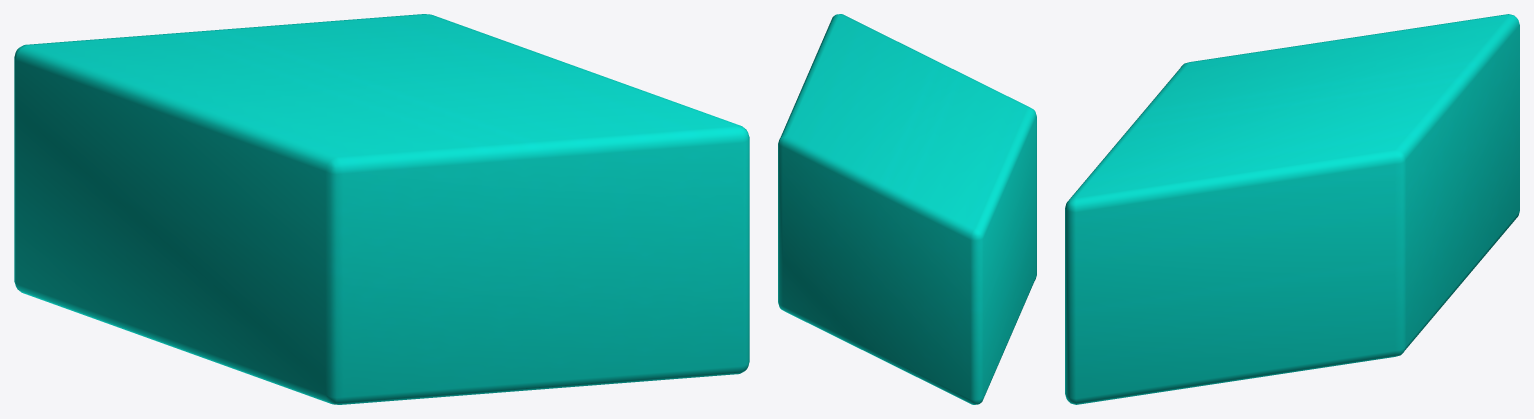
The model's file is RhombusSmall_2.fbx.
3 views of the same model, side by side, from view 1: azimuth 30°, elevation 25°; view 2: azimuth 150°, elevation 25°; view 3: azimuth 270°, elevation 25° (orthographic). The views are drawn at different scales.
Visible parts, largest first — view 1: Cube.003; view 2: Cube.003; view 3: Cube.003.
Part boxes in pixels (x1,y1,x2,y2): Cube.003: (14, 14, 749, 404); Cube.003: (778, 14, 1036, 404); Cube.003: (1065, 14, 1519, 404).
Bounding box in the file's own units: 400 × 200 × 400.
